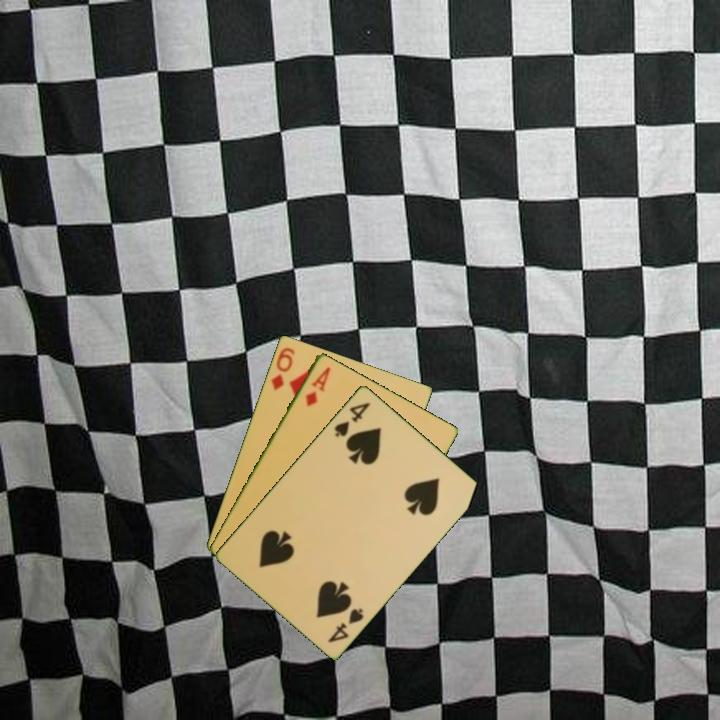4s: (330, 398, 373, 440), (324, 604, 366, 645)
6d: (267, 343, 298, 393)
Ad: (301, 363, 333, 409)
